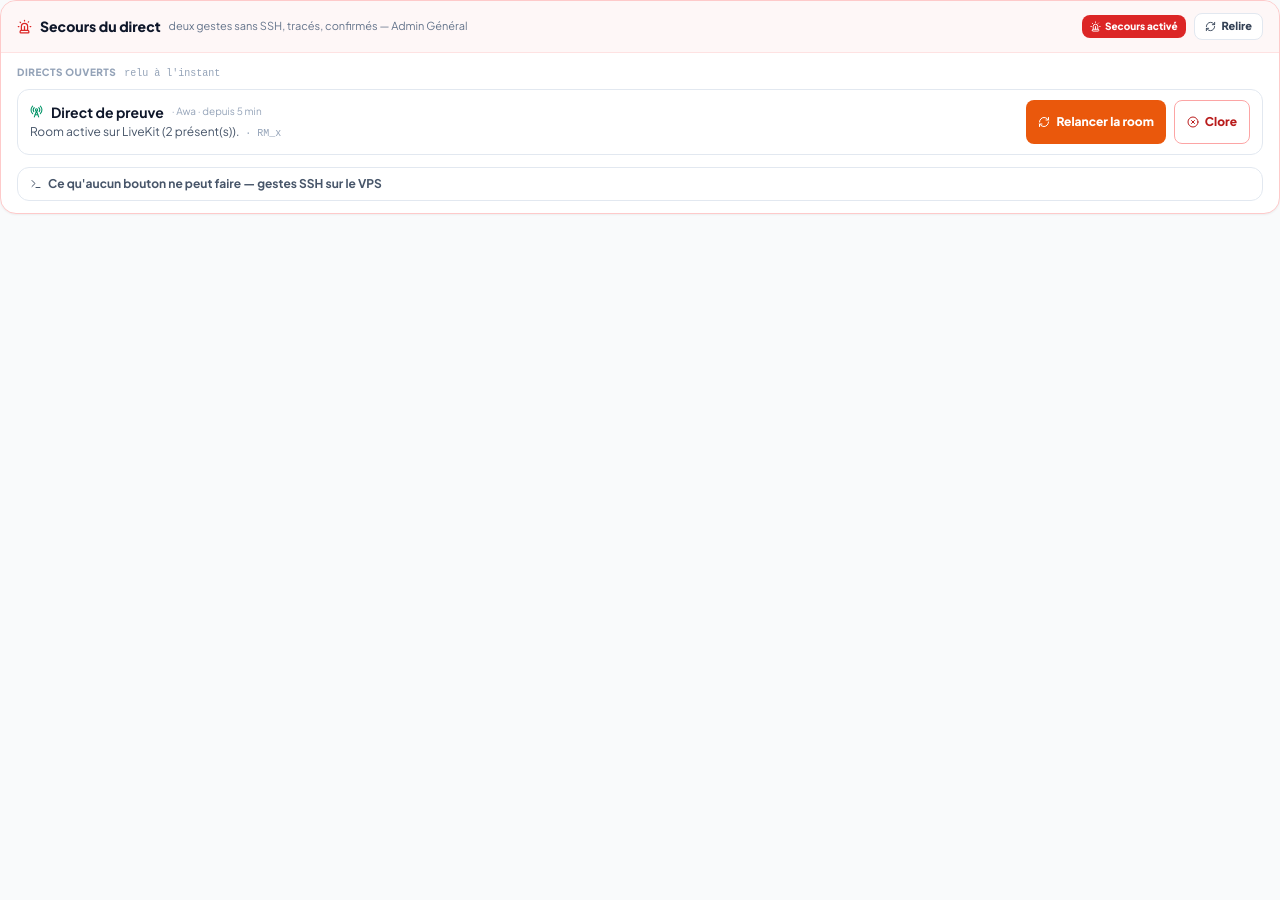
Test case: SAT-6 — panneau Secours du direct › « Clore » ouvre une modale NON réversible, et un refus serveur s'affiche tel quel
The image size is (1280, 900).
Expected: the text "Direct de preuve" is shown, left=51, top=102, right=164, bottom=122
What coordinates should you click on to do the following:
click the button "Clore"
I would click on:
 (1212, 122)
Its box is left=1174, top=100, right=1250, bottom=144.
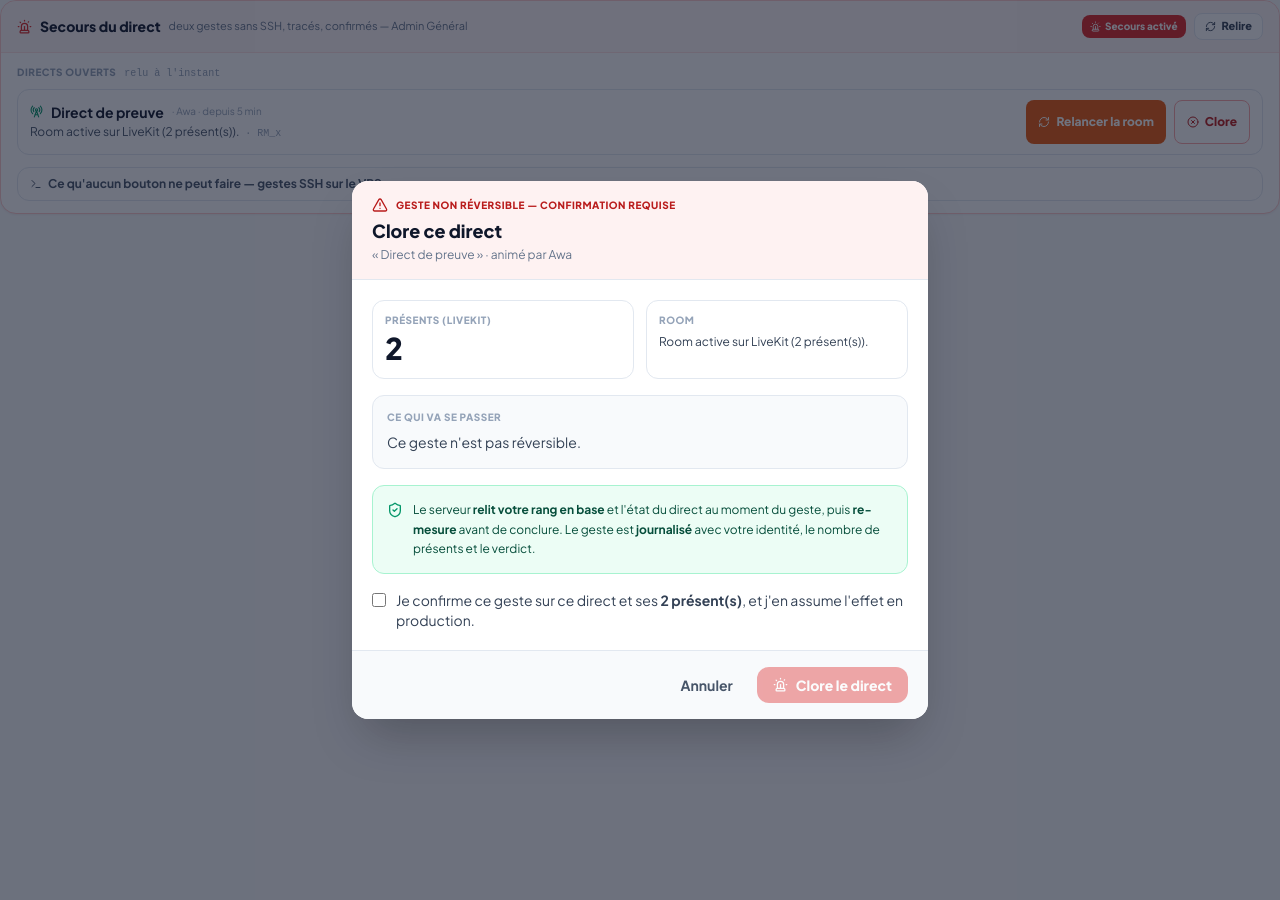
Result: the dialog with test id "live-emergency-modal" shows "NON réversible" at left=396, top=199, right=676, bottom=211
What coordinates should you click on to do the following:
click the checkbox with test id "live-emergency-accept"
I would click on:
 (379, 600)
Its box is left=372, top=592, right=386, bottom=608.
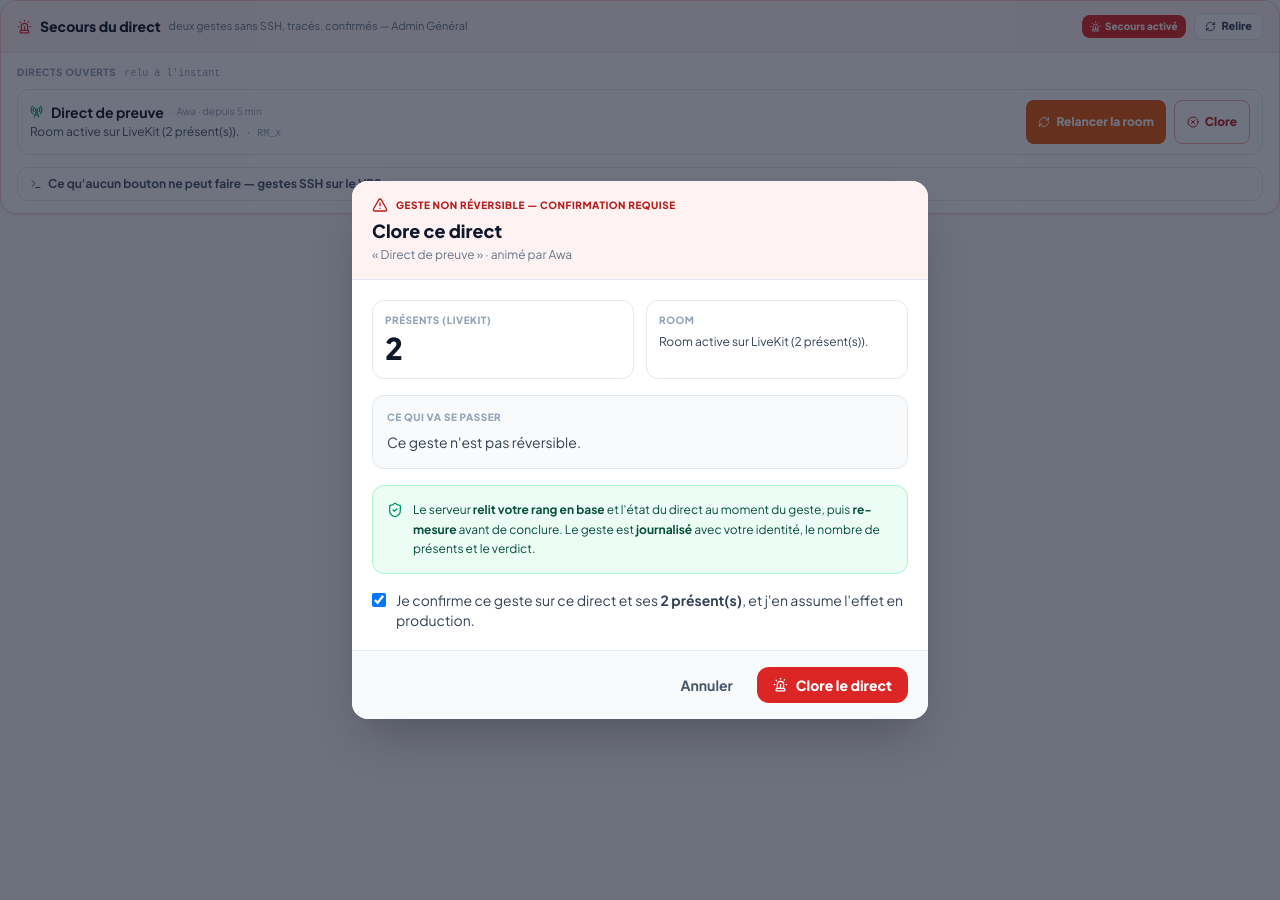
What coordinates should you click on to do the following:
click the button with test id "live-emergency-confirm"
I would click on:
 (832, 685)
Its box is left=757, top=667, right=908, bottom=703.
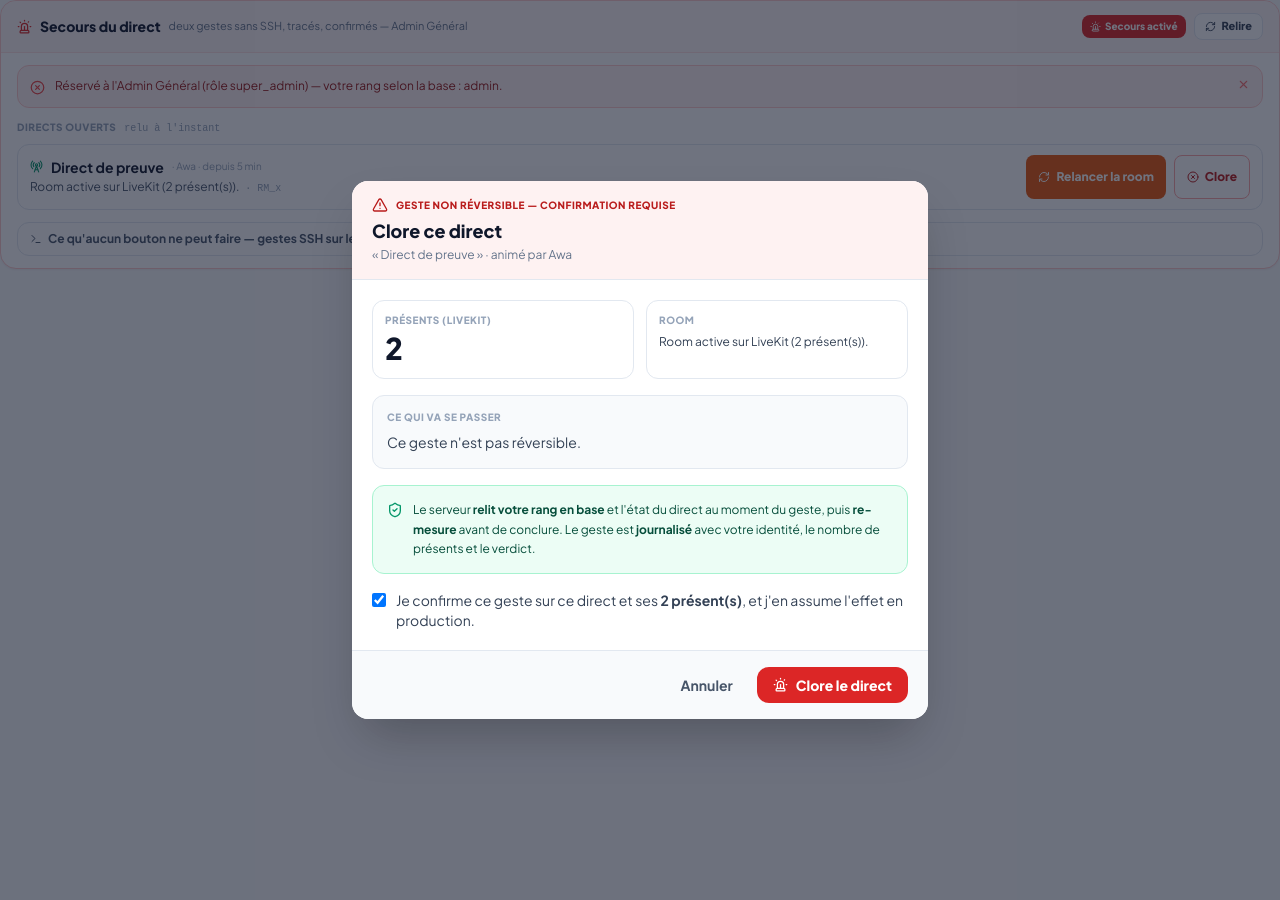
Result: the element with test id "live-emergency-error" shows "votre rang selon la base : admin" at left=55, top=78, right=502, bottom=92
